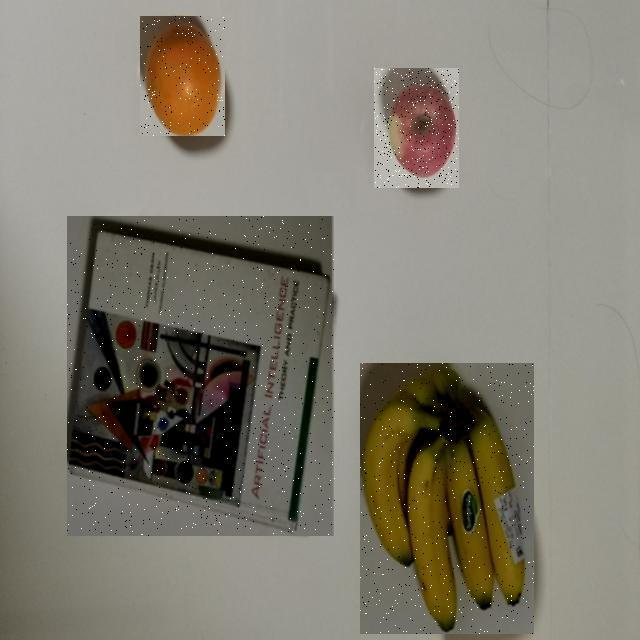Apple: (374, 68, 459, 188)
Banana: (360, 363, 534, 634)
Book: (68, 216, 336, 536)
Orange: (140, 16, 225, 136)
